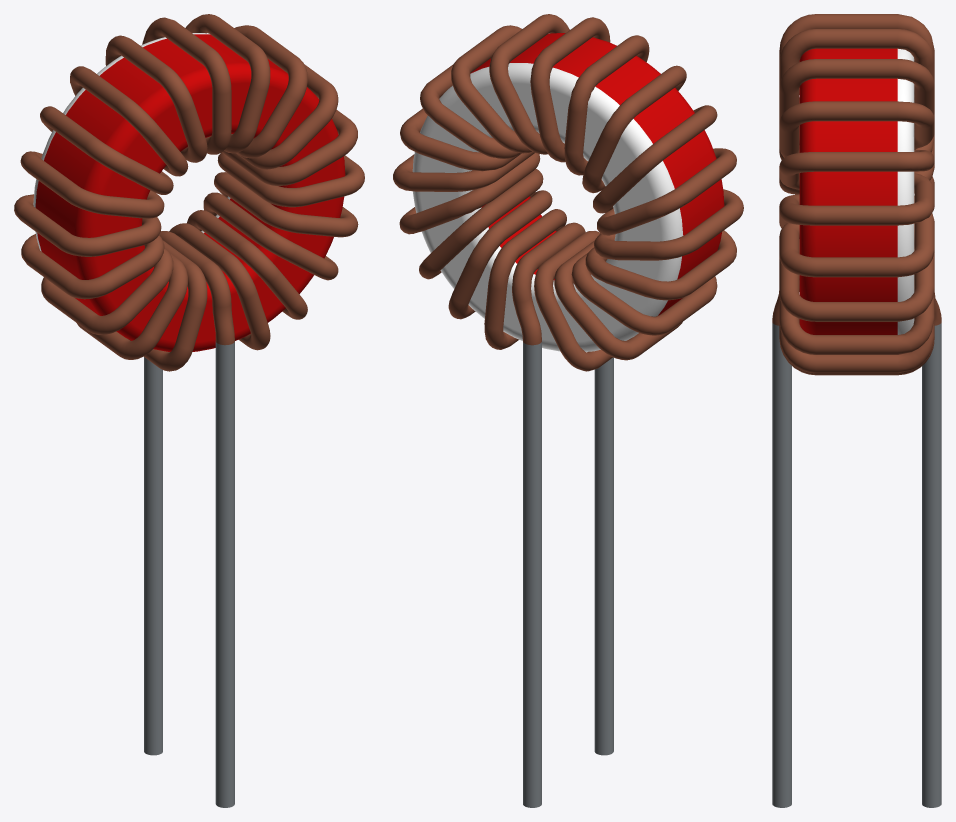
The model's file is WE-FI Leaded torodial Line Choke.gltf.
The picture shows the model from 3 angles, left to right: view 1: azimuth 30°, elevation 25°; view 2: azimuth 150°, elevation 25°; view 3: azimuth 270°, elevation 25°; orthographic projection. The views are drawn at different scales.
Visible parts, largest first — view 1: turns, Core-T37; view 2: turns, Core-T37; view 3: turns, Core-T37.
Boxes of the visible parts, x1,y1,x2,y2 form: turns: (14, 14, 364, 807); Core-T37: (33, 33, 345, 351); turns: (393, 14, 743, 807); Core-T37: (412, 33, 724, 351); turns: (772, 14, 941, 807); Core-T37: (799, 48, 914, 334).
Size of the model in its own units: 0.0109 by 0.0257 by 0.0051.
